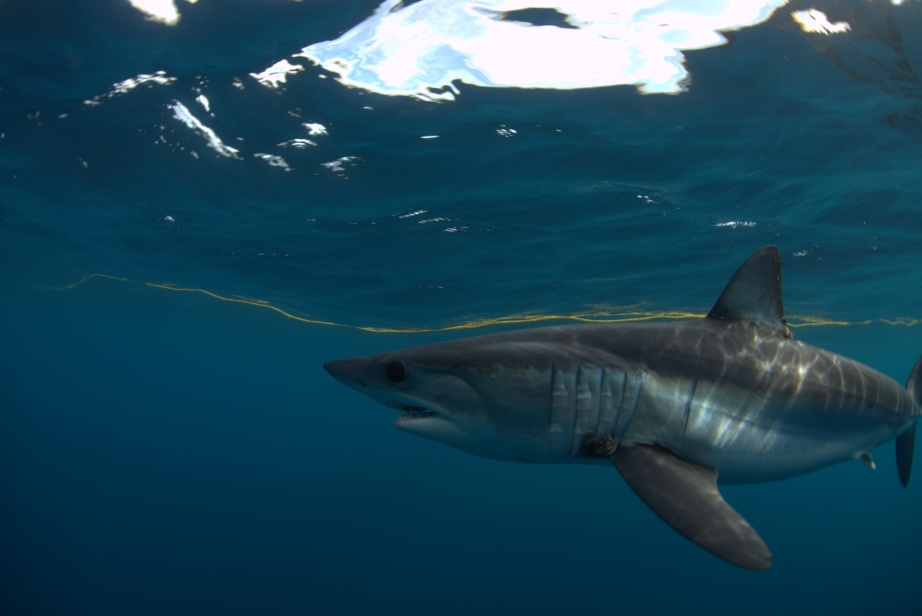Mako: (307, 240, 922, 585)
